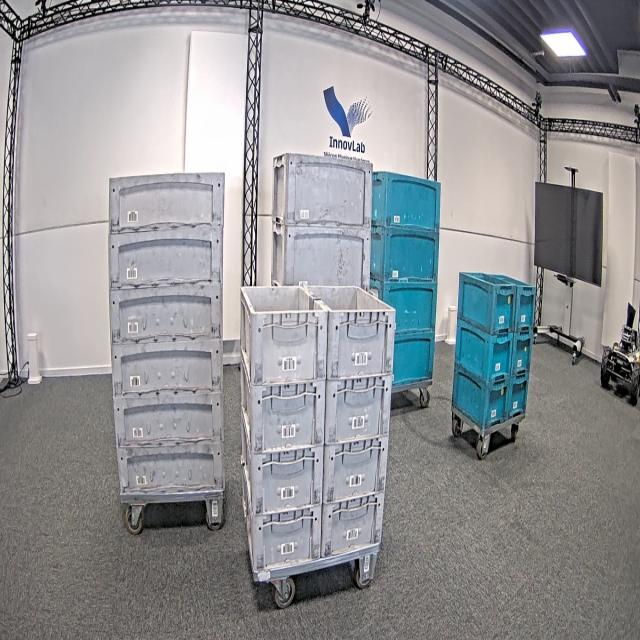Box3G: (108, 228, 222, 290), (108, 172, 225, 232), (108, 286, 222, 346), (112, 340, 225, 397), (115, 394, 225, 448), (118, 442, 226, 495)
Box4G: (274, 150, 372, 231), (271, 225, 373, 288)
Box8G: (241, 286, 324, 379), (327, 288, 395, 376), (244, 379, 322, 450), (247, 446, 321, 515), (324, 373, 393, 446), (322, 435, 389, 507), (247, 507, 320, 571), (321, 492, 386, 558)
BoxB4: (370, 169, 441, 232), (372, 229, 442, 286), (378, 281, 439, 338), (393, 332, 438, 390)
BoxB8: (450, 364, 509, 430), (455, 322, 514, 387), (457, 272, 517, 335), (514, 281, 537, 333), (506, 374, 530, 419), (512, 332, 534, 377)
